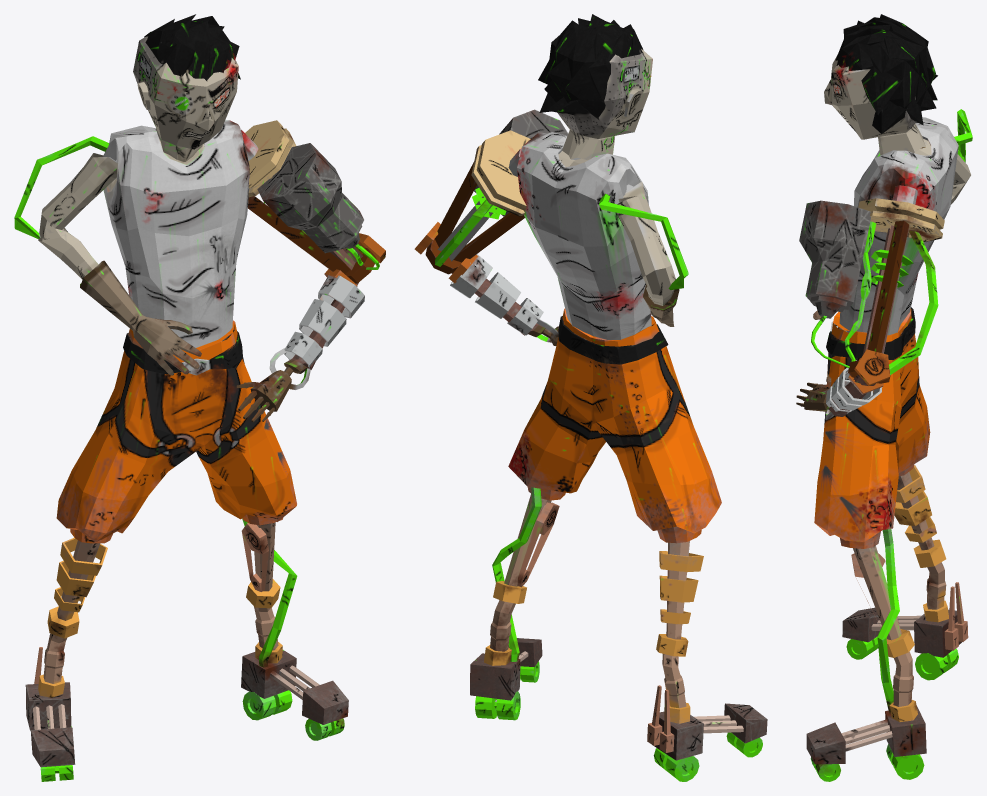
The model's file is CyborgFINALAnimation_000042.obj.
The picture shows the model from 3 angles, left to right: view 1: azimuth 30°, elevation 25°; view 2: azimuth 150°, elevation 25°; view 3: azimuth 270°, elevation 25°; orthographic projection. The views are drawn at different scales.
Parts seen in each view (by area): view 1: CyborgMesh_Cube.002; view 2: CyborgMesh_Cube.002; view 3: CyborgMesh_Cube.002.
Boxes of the visible parts, box(x1,y1,x2,y2) form: CyborgMesh_Cube.002: box(14, 14, 385, 781); CyborgMesh_Cube.002: box(414, 14, 767, 781); CyborgMesh_Cube.002: box(796, 14, 972, 781).
Bounding box in the file's own units: 4.86 × 9.61 × 2.17.
